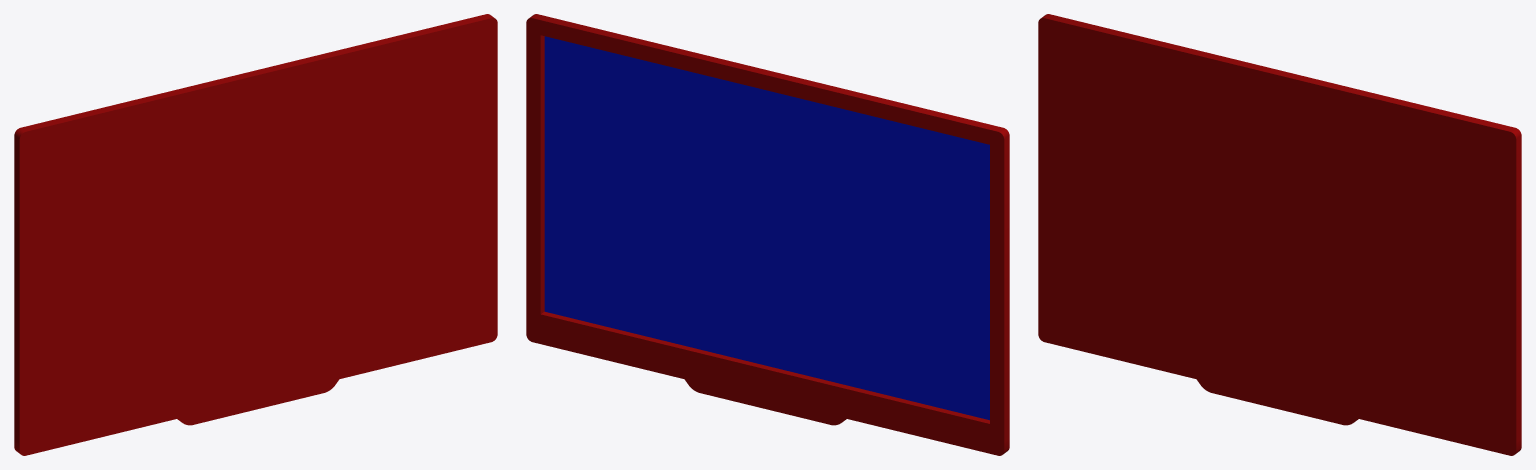
The picture shows the model from 3 angles, left to right: view 1: azimuth 30°, elevation 25°; view 2: azimuth 150°, elevation 25°; view 3: azimuth 330°, elevation 25°; orthographic projection.
Parts seen in each view (by area): view 1: tv; view 2: tv; view 3: tv.
Part boxes in pixels (left/top/right/bottom): tv: left=14, top=14, right=497, bottom=455; tv: left=526, top=14, right=1009, bottom=455; tv: left=1038, top=14, right=1521, bottom=455.
Size of the model in its own units: 102 by 68.09 by 2.
